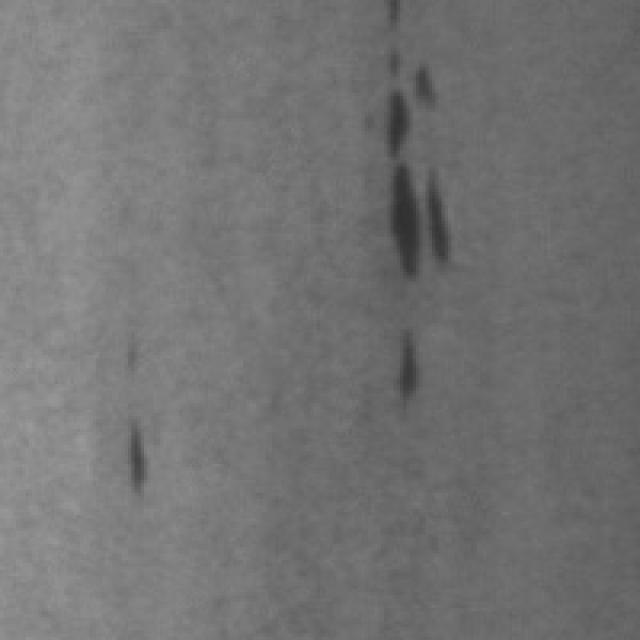inclusion: (385, 0, 458, 278), (394, 317, 435, 416), (122, 410, 166, 502)
